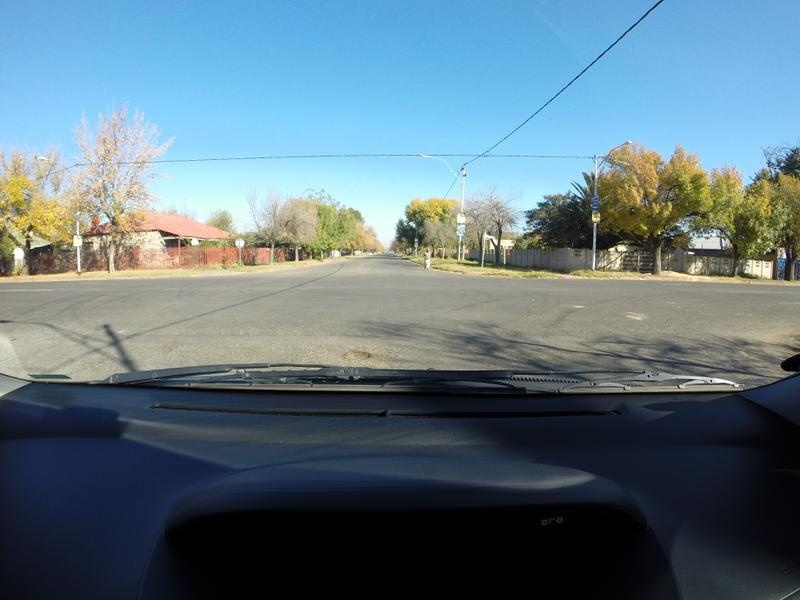pothole: (334, 344, 371, 364)
